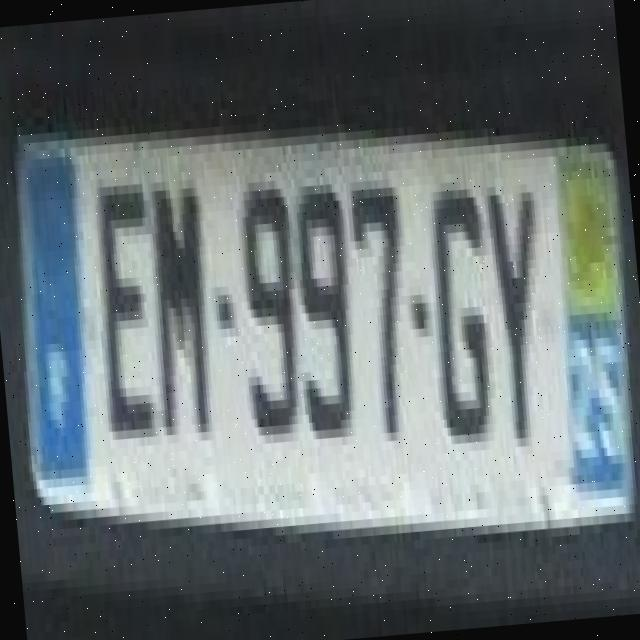EU: (16, 121, 637, 511)
France: (27, 151, 89, 476)
